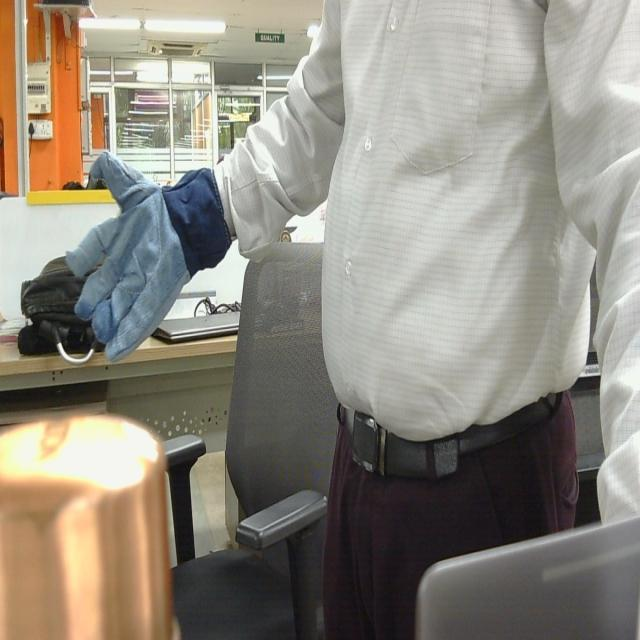Gloves-Detection: (66, 154, 230, 361)
